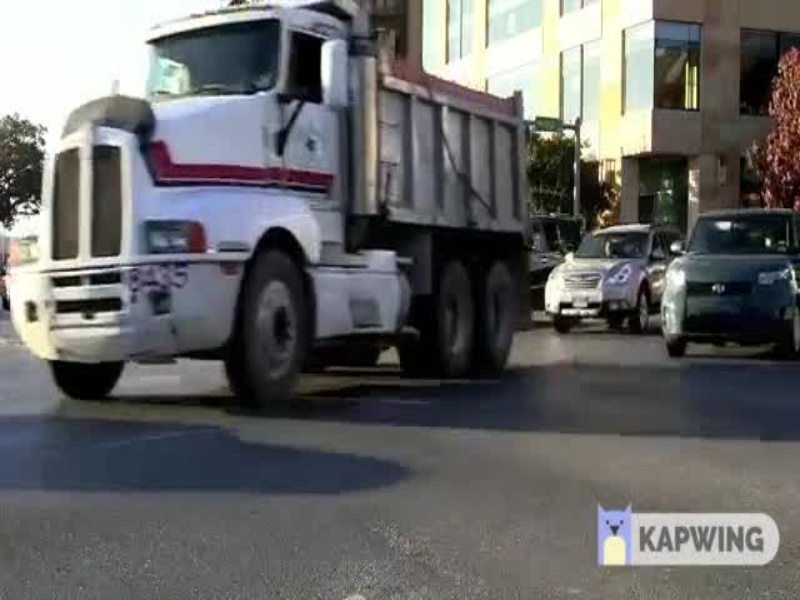semi: (1, 5, 526, 402)
suv: (654, 198, 800, 359), (540, 214, 665, 326)
